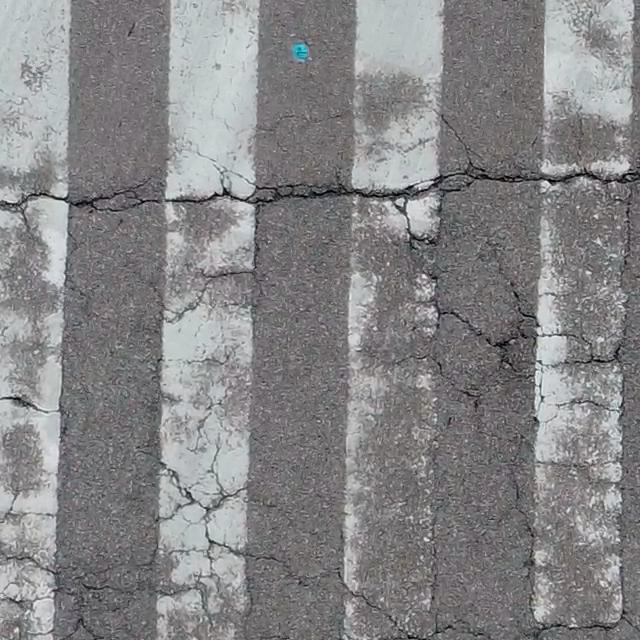GRIETA: (0, 170, 639, 215), (257, 99, 484, 168), (132, 148, 256, 190), (336, 565, 394, 621), (401, 195, 445, 243), (619, 187, 634, 287), (0, 395, 54, 412), (254, 208, 261, 243)
PIEL DE COCODRILO: (367, 233, 639, 639), (127, 234, 316, 639), (0, 504, 132, 639)
